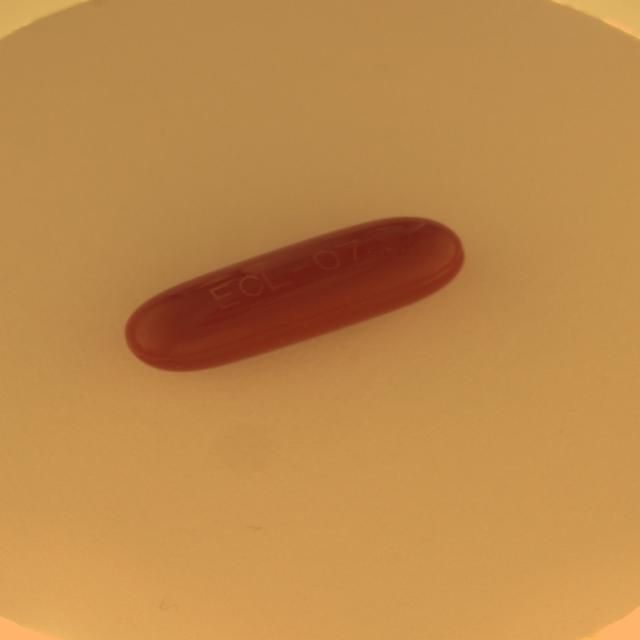Oval: (116, 211, 470, 378)
